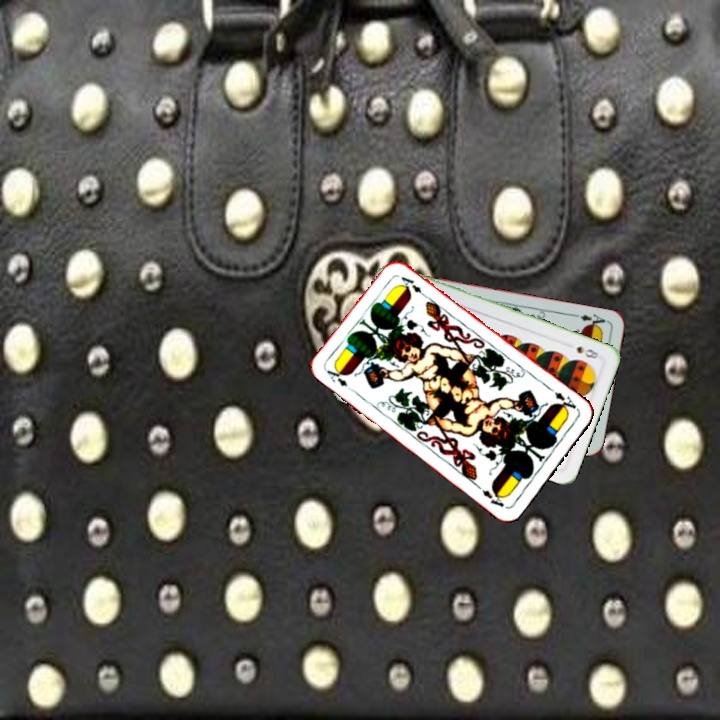EA: (323, 363, 357, 394), (550, 388, 581, 415), (576, 310, 610, 331)
S8: (572, 342, 601, 361)
